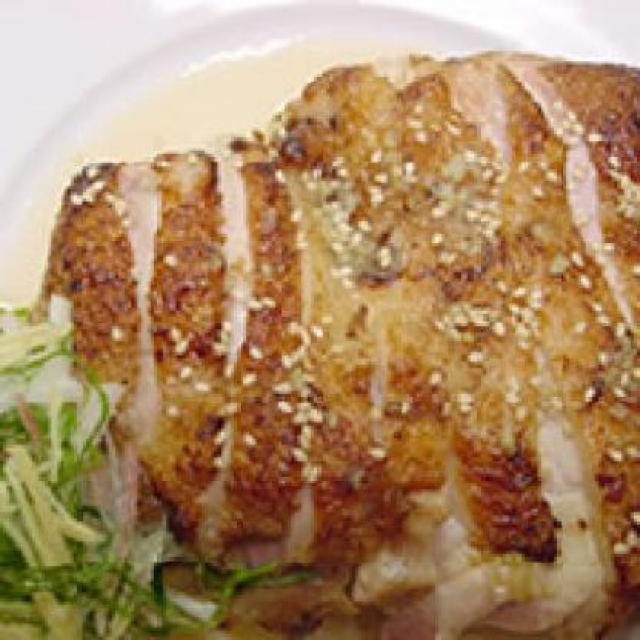Chicken: (86, 89, 637, 557)
